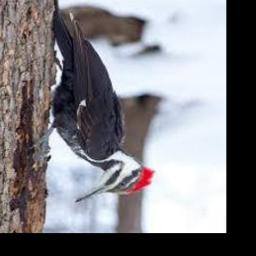Woodpecker: (30, 0, 155, 204)
